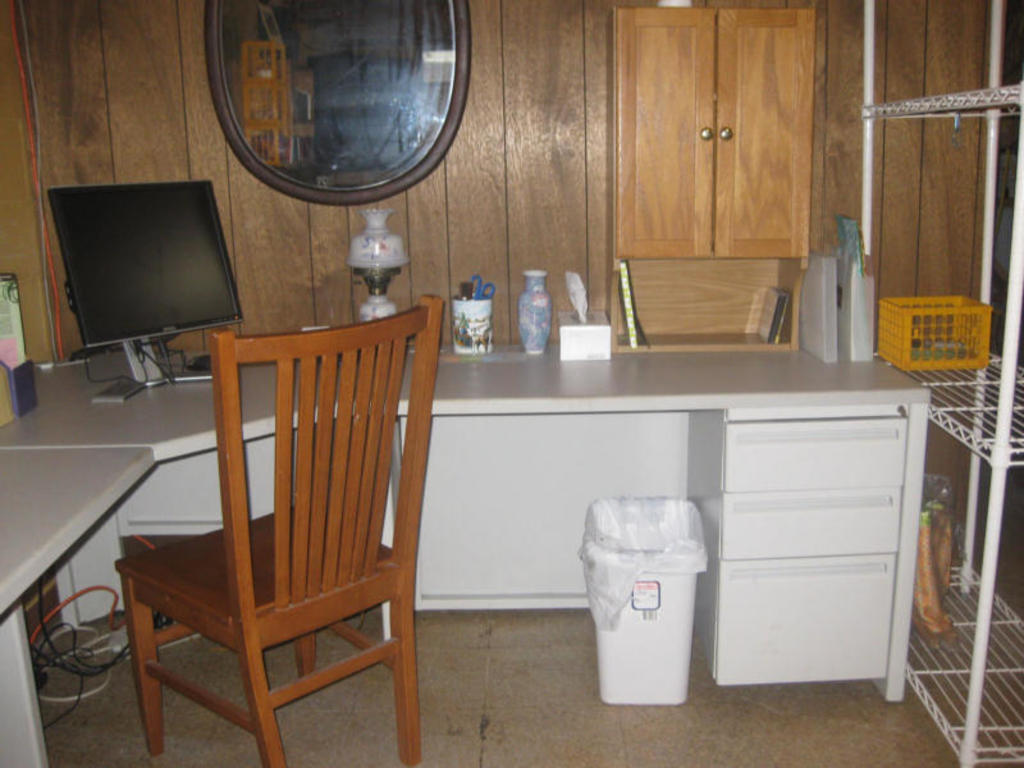cabinet door: (622, 10, 710, 245), (722, 13, 807, 251), (733, 559, 894, 672), (731, 426, 902, 486), (731, 496, 894, 551)
handle: (728, 493, 898, 519), (732, 559, 889, 583), (737, 428, 892, 452), (719, 118, 732, 144), (702, 118, 714, 143)
